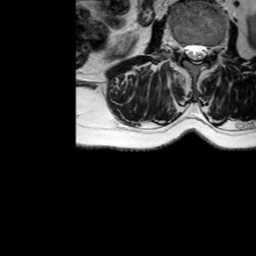CCS_normal: (192, 34, 199, 72)
LFS_normal: (207, 35, 215, 65)
LLS_normal: (199, 35, 207, 66)
RFS_normal: (176, 33, 184, 65)
RLS_normal: (184, 36, 192, 65)
